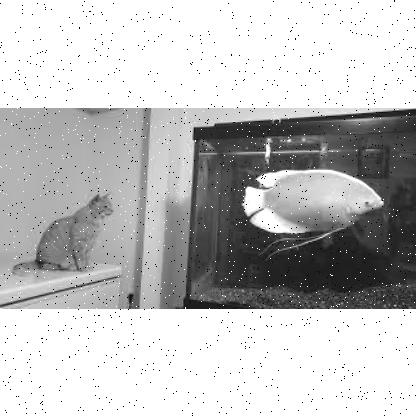gurame: (242, 167, 384, 239)
